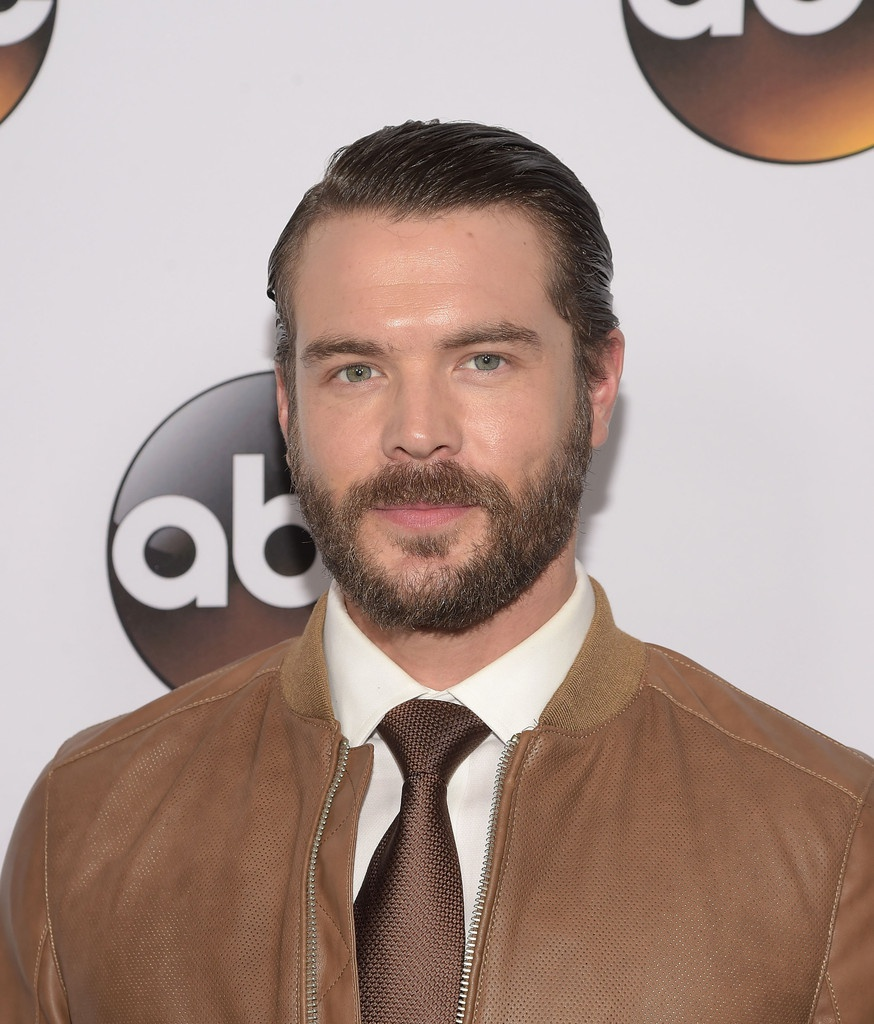bad: (277, 277, 598, 598)
